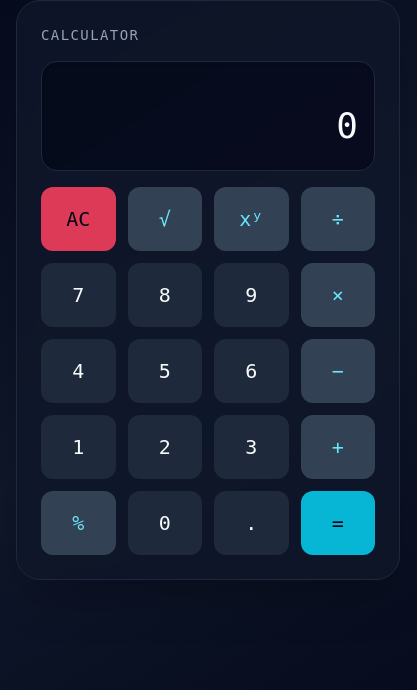
it: <Calculator /> › disables every button except AC while an error is showing
Step 1. Click the button "1" → (78, 447), box [41, 415, 116, 479]
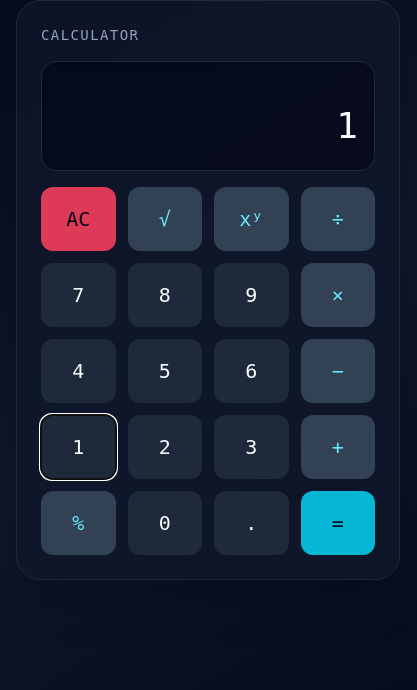
Step 2. Click the button named "divide" → (338, 219), box [300, 187, 375, 251]
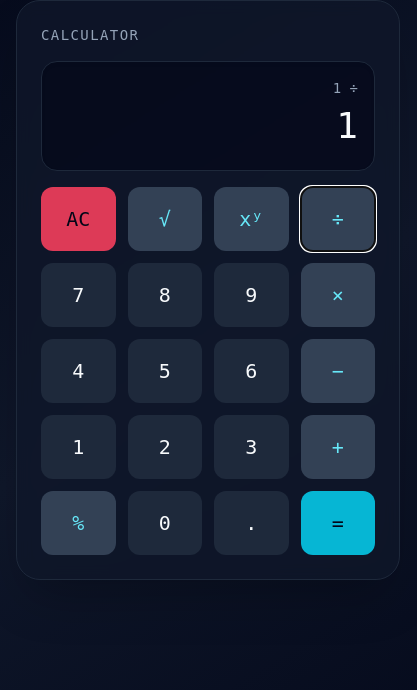
Step 3. Click the button "0" → (165, 523), box [128, 491, 202, 555]
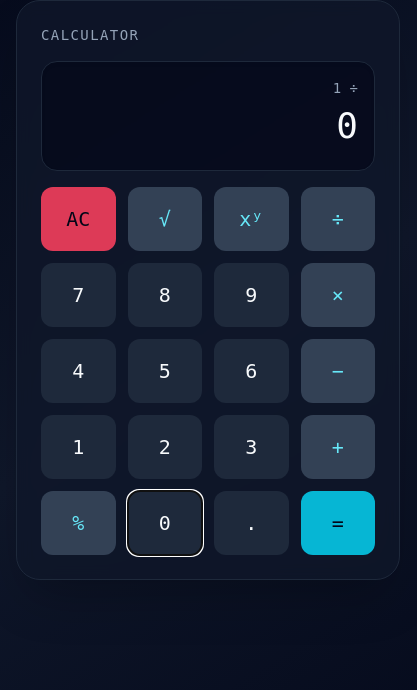
Step 4. Click the button named "equals" → (338, 523), box [300, 491, 375, 555]
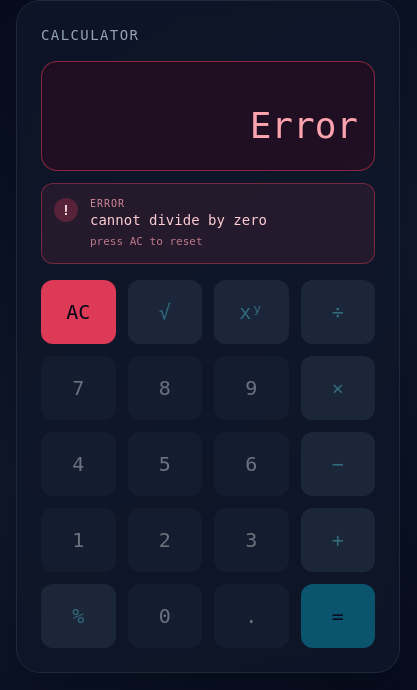
Expected: the button named "square root" is disabled, [128, 280, 202, 344]
Expected: the button with aria-label "power" is disabled, [214, 280, 288, 344]
Expected: the button named "divide" is disabled, [300, 280, 375, 344]
Step 5. Click the button with aria-label "clear" → (78, 312), box [41, 280, 116, 344]
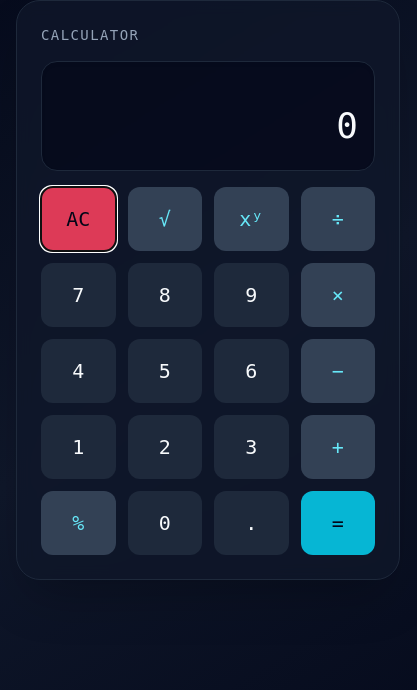
Expected: the message with test id "error-banner" is gone
Expected: the button named "square root" is enabled, [128, 187, 202, 251]
Expected: the button with aria-label "power" is enabled, [214, 187, 288, 251]
